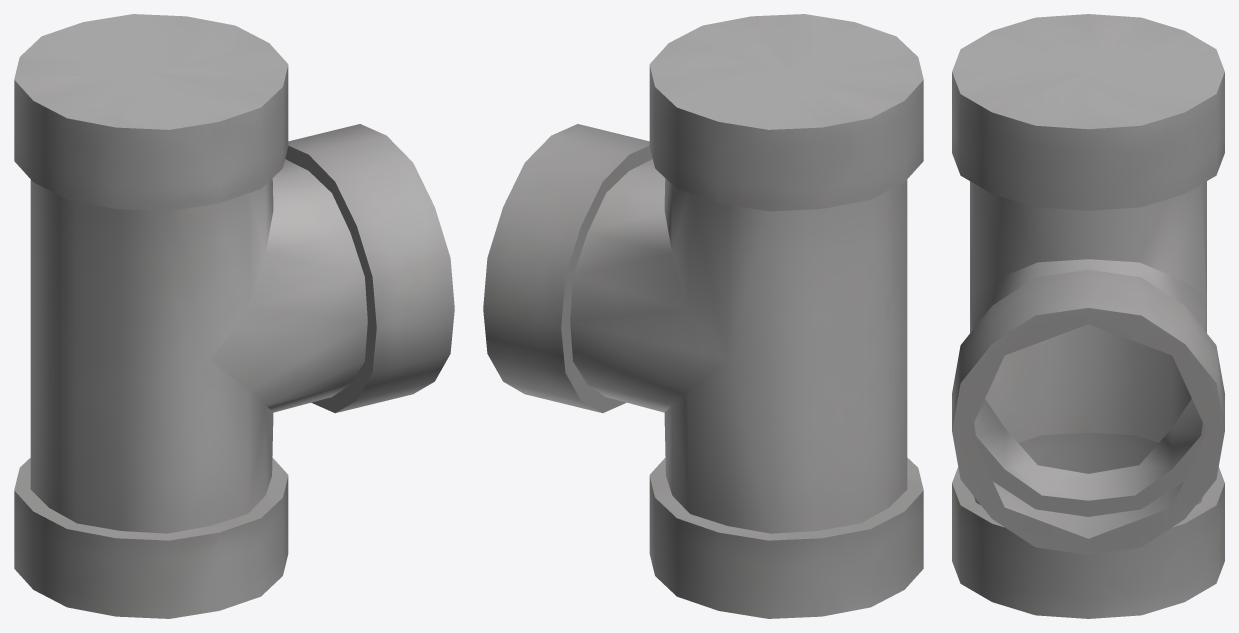
File: Pipe_S2.fbx
3 renders of one model, left to right at view 1: azimuth 30°, elevation 25°; view 2: azimuth 150°, elevation 25°; view 3: azimuth 270°, elevation 25°, orthographic.
Parts seen in each view (by area): view 1: Mat_Pipe_01; view 2: Mat_Pipe_01; view 3: Mat_Pipe_01.
Part boxes in pixels (box(x1,y1,x2,y2)): Mat_Pipe_01: box(14, 14, 454, 618); Mat_Pipe_01: box(483, 14, 923, 618); Mat_Pipe_01: box(952, 14, 1224, 618).
Bounding box in the file's own units: 0.5172 × 0.684 × 0.3455.
1 material, 1 textured.
